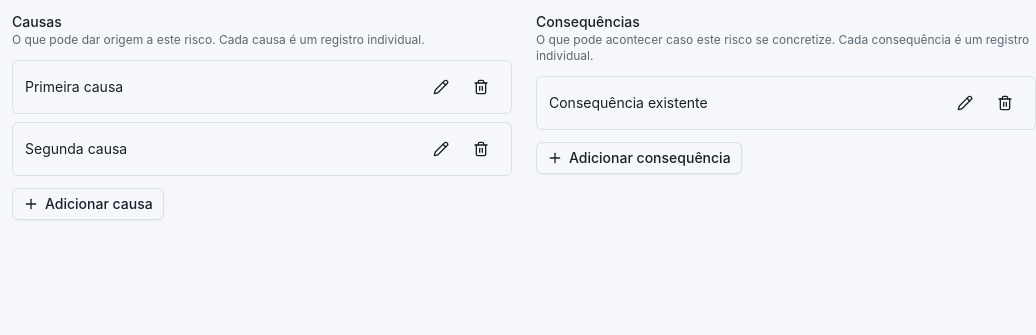
Test case: RiskCausesConsequences › locks every other Editar/Remover and both Adicionar buttons while one item is being edited — the guarantee a collective PUT needs
Step 1. Click the button named "Editar causa 1" → (441, 87), box [423, 69, 459, 105]
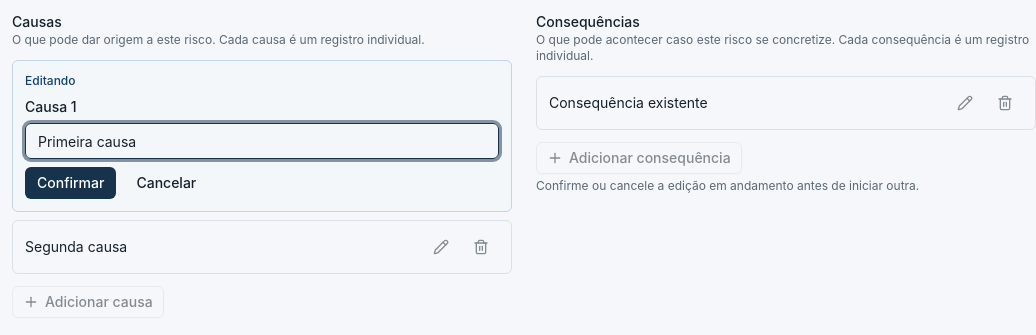
Expected: the button named "Remover causa 2" is disabled, [463, 229, 499, 265]
Expected: the button named "Editar consequência 1" is disabled, [947, 85, 983, 121]
Expected: the button named "Remover consequência 1" is disabled, [987, 85, 1023, 121]
Step 2. Click the button "Cancelar" → (166, 183), box [124, 167, 208, 199]
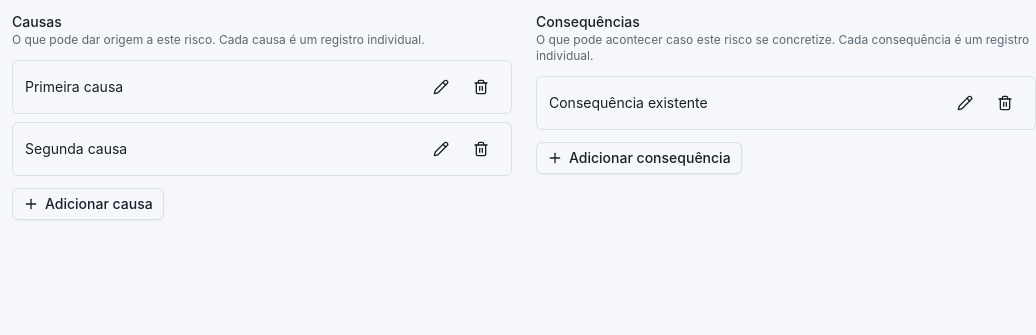
Expected: the button "Adicionar consequência" is enabled, [536, 142, 742, 174]
